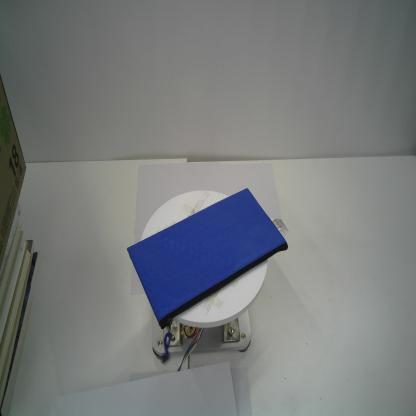Stationery: (126, 188, 288, 364)
